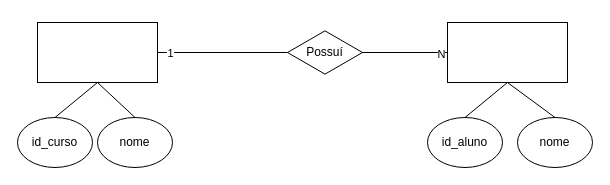
Some shapes in this 610 by 185 pixel diagram are drawn without their labels. The shapes that lost their labels are listed below. From the top down, each one's box as (x1, y1, x2, y2) in pixels, then its label:
(36, 22, 158, 82): Curso
(446, 22, 568, 82): Aluno
